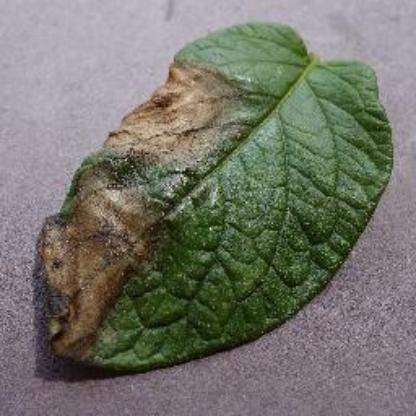Late-Blight: (30, 13, 395, 376)
